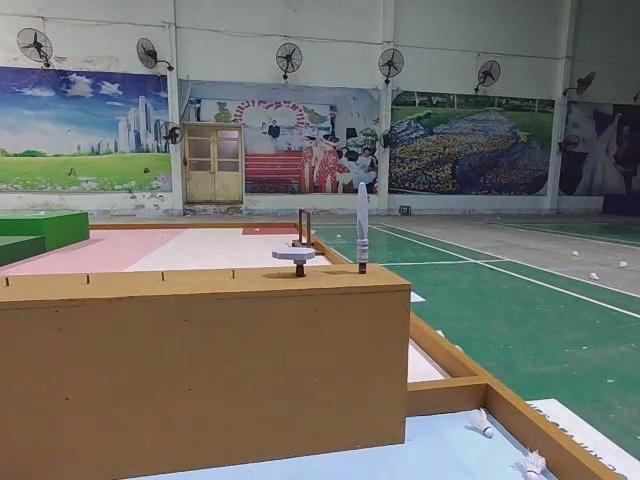Hand: (270, 246, 316, 275)
Sph: (355, 181, 373, 275)
